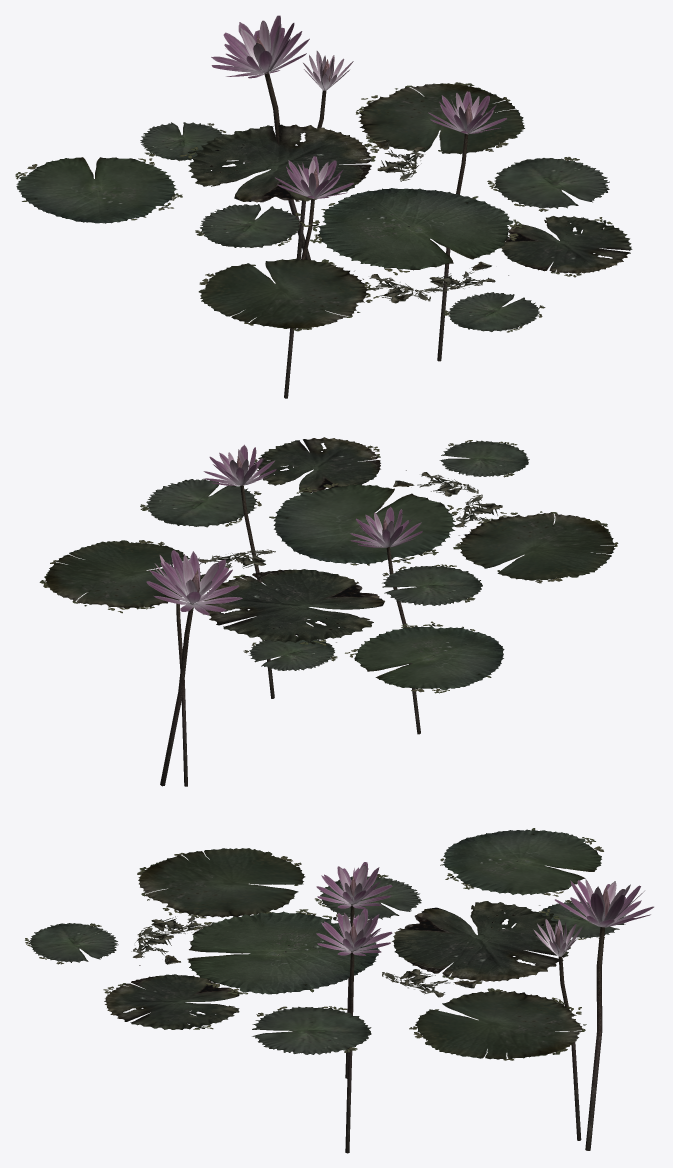
File: SM_LotusPondC.FBX
3 views of the same model, one above another, from view 1: azimuth 30°, elevation 25°; view 2: azimuth 150°, elevation 25°; view 3: azimuth 270°, elevation 25° (orthographic). The views are drawn at different scales.
Visible parts, largest first — view 1: SM_LotusPondC; view 2: SM_LotusPondC; view 3: SM_LotusPondC.
Part boxes in pixels (left/top/right/bottom): SM_LotusPondC: left=15, top=15, right=632, bottom=398; SM_LotusPondC: left=39, top=437, right=618, bottom=786; SM_LotusPondC: left=25, top=828, right=653, bottom=1153.
Size of the model in its own units: 199 by 209 by 90.08.
